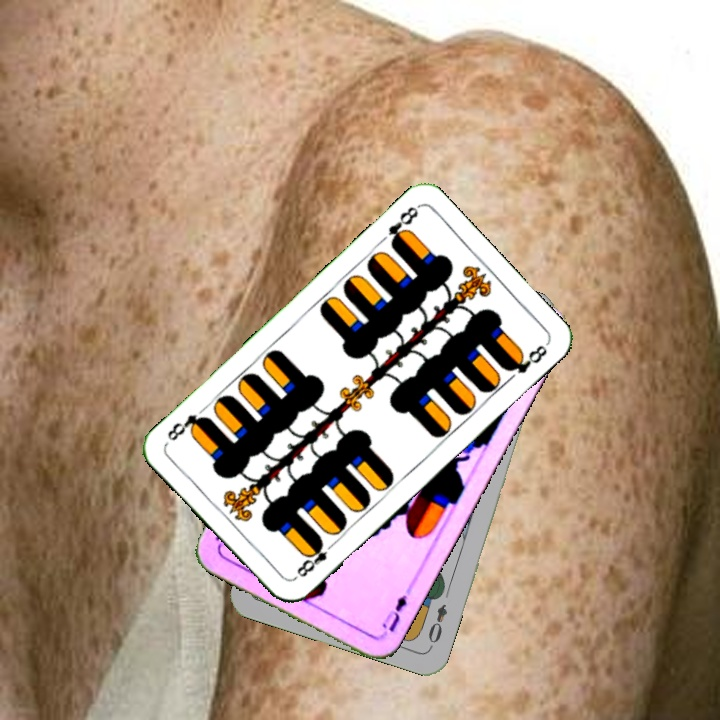E8: (290, 536, 338, 582), (383, 202, 421, 250)
EO: (424, 600, 450, 651)
EU: (377, 583, 412, 639)
